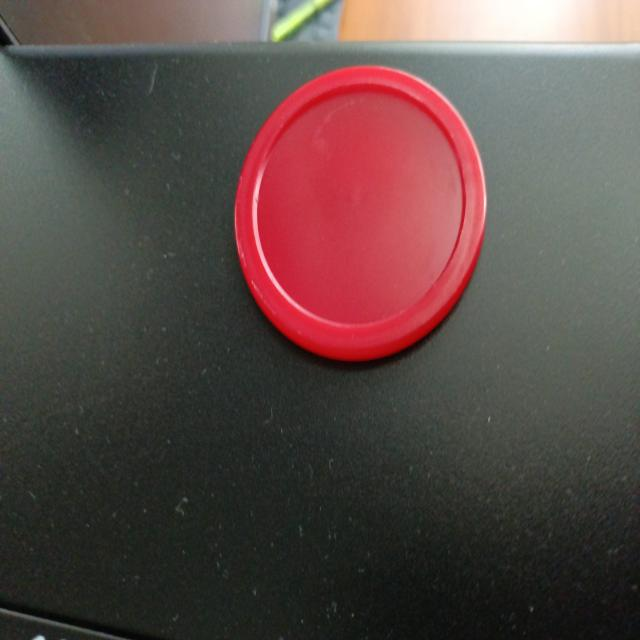chip: (232, 60, 484, 362)
